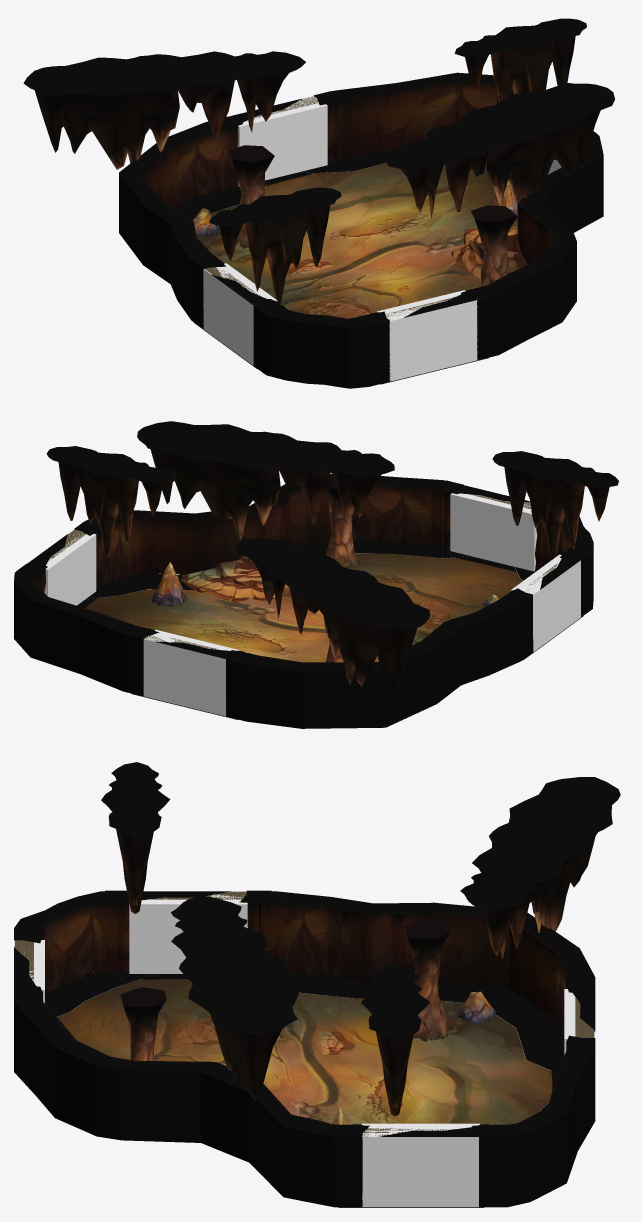
The model's file is Dungeon_011_Room_003.fbx.
The picture shows the model from 3 angles, top to bottom: view 1: azimuth 30°, elevation 25°; view 2: azimuth 150°, elevation 25°; view 3: azimuth 270°, elevation 25°; orthographic projection. The views are drawn at different scales.
Visible parts, largest first — view 1: Dun_011_Room_003_Object02, Dun_011_Room_003_wall, Dun_011_Room_003_ground, DoorWay_NavMask (1) (×3), Dungeon_011_Object_010 (×2), Dun_011_Door_002_old (×3), Dun_011_Room_003_shadow, Dun_011_Room_003_Object01, Dun_011_Door_002, Dungeon_011_Object_012; view 2: Dun_011_Room_003_wall, Dun_011_Room_003_Object02, Dun_011_Room_003_ground, DoorWay_NavMask (1) (×4), Dun_011_Door_002_old (×4), Dun_011_Room_003_shadow, Dun_011_Room_003_Object01, Dungeon_011_Object_010, Dungeon_011_Object_011, Dun_011_Door_002; view 3: Dun_011_Room_003_wall, Dun_011_Room_003_Object02, Dun_011_Room_003_ground, DoorWay_NavMask (1) (×2), Dun_011_Room_003_shadow, Dungeon_011_Object_010 (×2), Dun_011_Door_002_old (×4), Dun_011_Door_002, Dungeon_011_Object_012.
Part boxes in pixels (x1=…): Dun_011_Room_003_Object02: x1=23, y1=18, x2=614, y2=303; Dun_011_Room_003_wall: x1=119, y1=72, x2=603, y2=388; Dun_011_Room_003_ground: x1=193, y1=157, x2=517, y2=384; DoorWay_NavMask (1) (×3): x1=203, y1=96, x2=477, y2=381; Dungeon_011_Object_010 (×2): x1=228, y1=145, x2=517, y2=286; Dun_011_Door_002_old (×3): x1=193, y1=91, x2=495, y2=324; Dun_011_Room_003_shadow: x1=174, y1=153, x2=387, y2=219; Dun_011_Room_003_Object01: x1=451, y1=226, x2=527, y2=277; Dun_011_Door_002: x1=223, y1=95, x2=341, y2=187; Dungeon_011_Object_012: x1=192, y1=208, x2=219, y2=237; Dun_011_Room_003_wall: x1=14, y1=476, x2=593, y2=728; Dun_011_Room_003_Object02: x1=46, y1=421, x2=618, y2=686; Dun_011_Room_003_ground: x1=85, y1=553, x2=583, y2=719; DoorWay_NavMask (1) (×4): x1=44, y1=493, x2=580, y2=716; Dun_011_Door_002_old (×4): x1=16, y1=480, x2=590, y2=662; Dun_011_Room_003_shadow: x1=85, y1=540, x2=535, y2=599; Dun_011_Room_003_Object01: x1=181, y1=556, x2=290, y2=603; Dungeon_011_Object_010: x1=326, y1=473, x2=360, y2=568; Dungeon_011_Object_011: x1=152, y1=562, x2=187, y2=607; Dun_011_Door_002: x1=436, y1=481, x2=543, y2=571; Dun_011_Room_003_wall: x1=14, y1=891, x2=595, y2=1207; Dun_011_Room_003_Object02: x1=101, y1=762, x2=620, y2=1116; Dun_011_Room_003_ground: x1=57, y1=972, x2=552, y2=1207; DoorWay_NavMask (1) (×2): x1=129, y1=891, x2=479, y2=1207; Dun_011_Room_003_shadow: x1=45, y1=971, x2=564, y2=1111; Dungeon_011_Object_010 (×2): x1=120, y1=919, x2=453, y2=1060; Dun_011_Door_002_old (×4): x1=14, y1=890, x2=595, y2=1136; Dun_011_Door_002: x1=106, y1=891, x2=268, y2=973; Dungeon_011_Object_012: x1=457, y1=991, x2=495, y2=1025.
Size of what is drawn, in the model's own units: 17.49 by 5.02 by 15.84.
